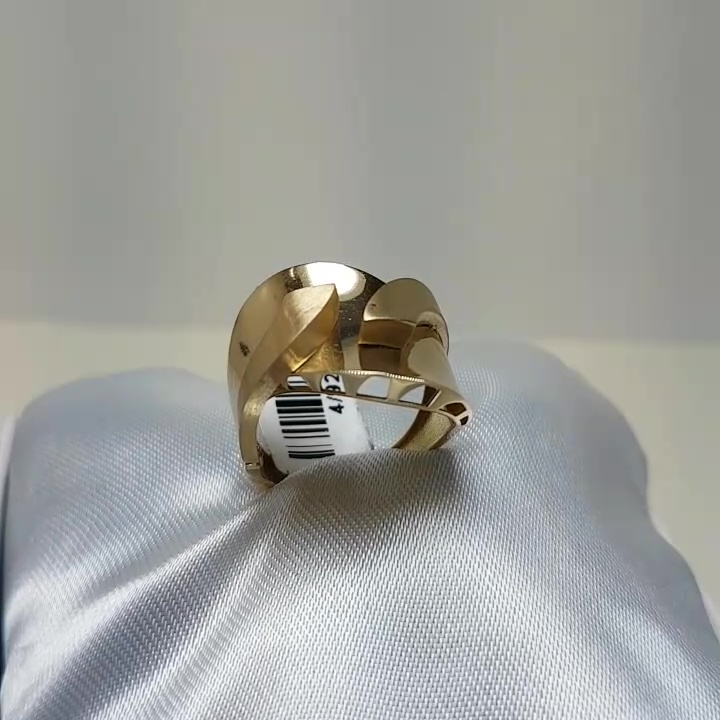Ring 4: (212, 246, 475, 491)
